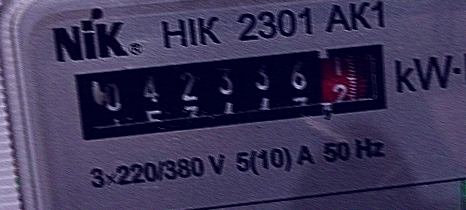0: (100, 79, 122, 114)
1: (328, 51, 343, 78)
2: (175, 68, 199, 104), (328, 82, 347, 105)
3: (212, 63, 233, 97), (251, 60, 271, 93)
4: (139, 72, 159, 105)
6: (286, 58, 309, 94)
screen: (60, 29, 402, 153)
